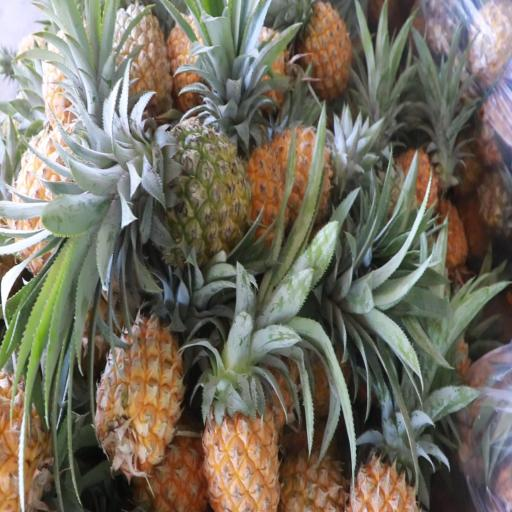Pineapple - v8 v1: (10, 126, 129, 282), (96, 312, 182, 486), (202, 328, 283, 512), (291, 0, 359, 103)
